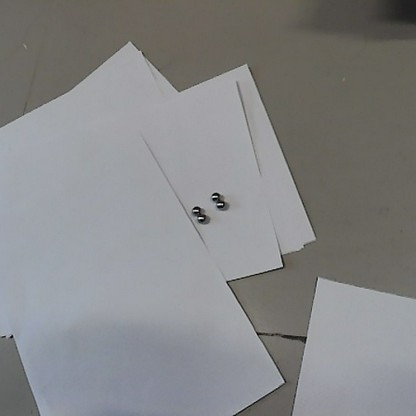ironball: (212, 197, 226, 210), (189, 202, 201, 216), (209, 190, 221, 203), (195, 212, 206, 225)
